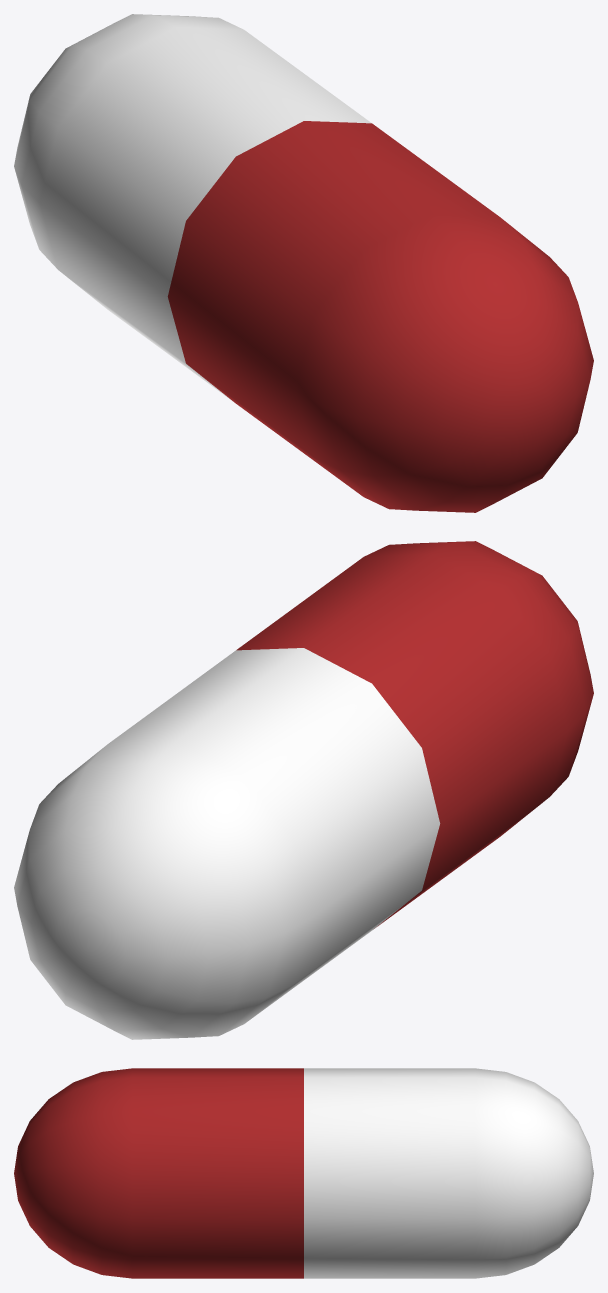
Rendered from pill_animated.fbx.
3 renders of one model, top to bottom at view 1: azimuth 30°, elevation 25°; view 2: azimuth 150°, elevation 25°; view 3: azimuth 270°, elevation 25°, orthographic. The views are drawn at different scales.
Visible parts, largest first — view 1: Pill; view 2: Pill; view 3: Pill.
Boxes of the visible parts, bbox=[...] form: Pill: bbox=[14, 14, 593, 512]; Pill: bbox=[14, 541, 593, 1039]; Pill: bbox=[14, 1068, 593, 1278].
Bounding box in the file's own units: 15.52 × 15.52 × 42.66.
